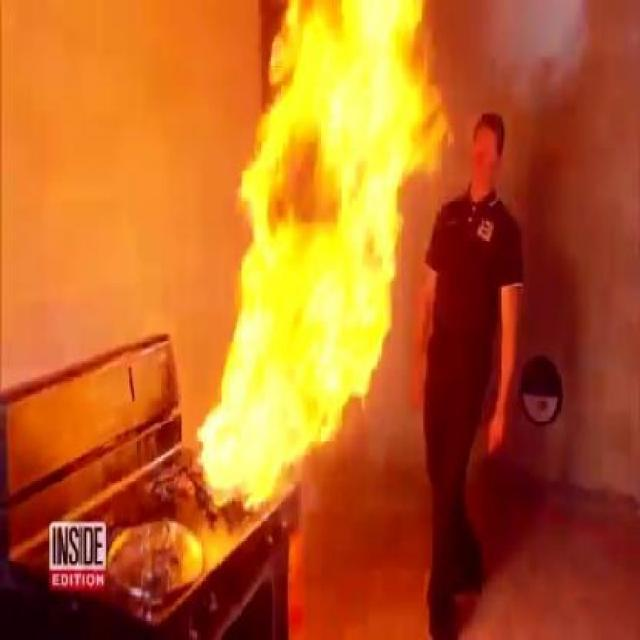fire: (204, 37, 368, 446)
smoke: (502, 3, 582, 69)
